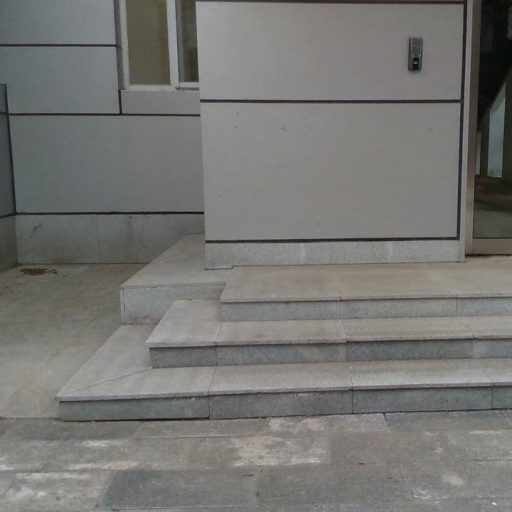Stairs: (148, 257, 512, 376)
